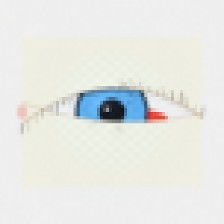hemorrhage_spot: (103, 91, 181, 154)
